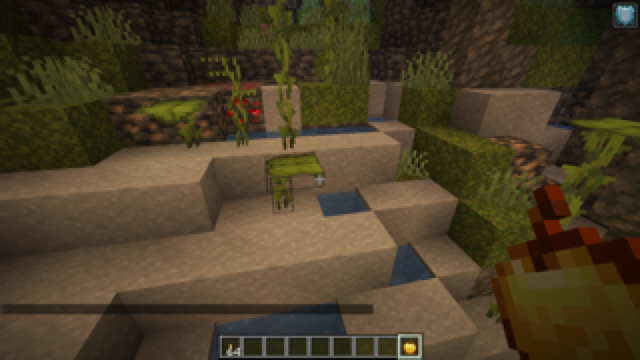iron: (113, 86, 216, 142), (491, 134, 546, 188)
redstone: (216, 81, 262, 131)
